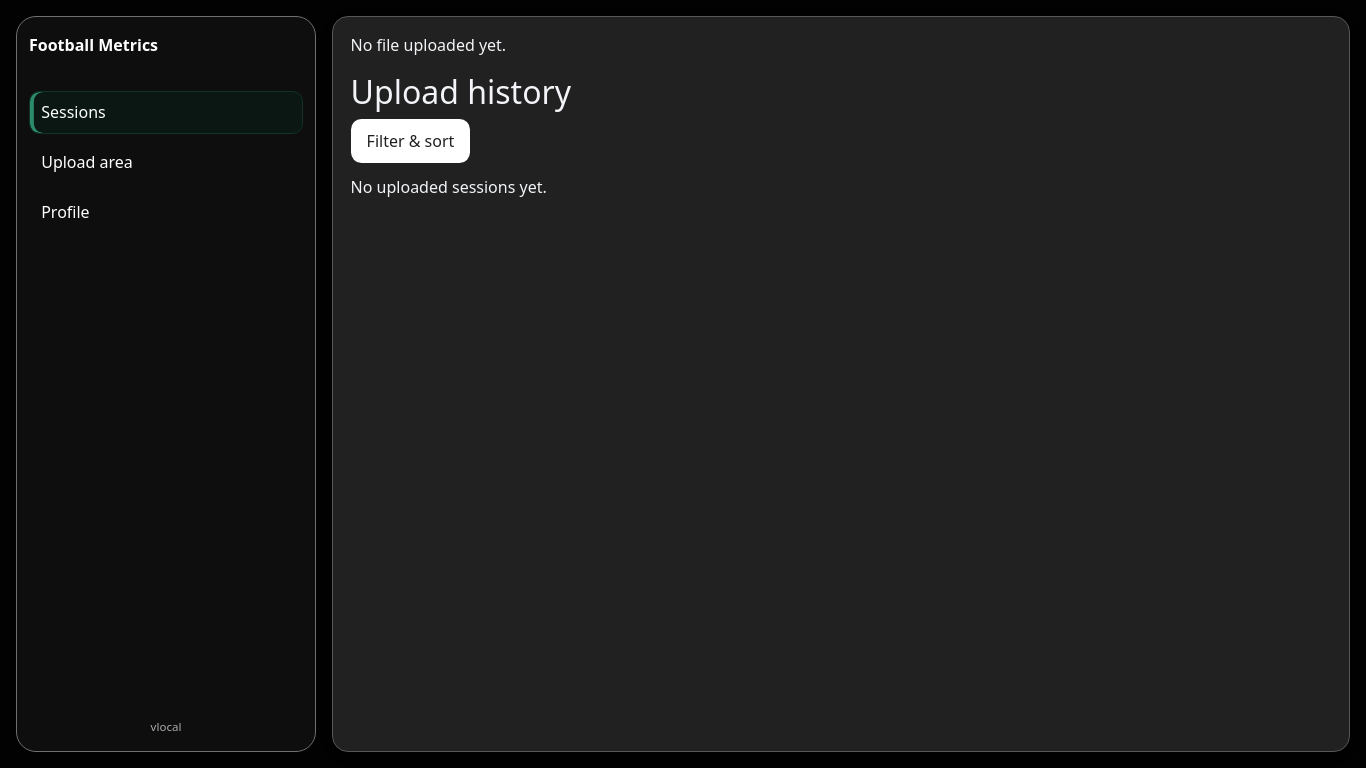
App › Mvp01_Ac01_renders english UI by default as browser language fallback
The width and height of the screenshot is (1366, 768).
Click the button "Upload area": (87, 162) [29,141,303,184]
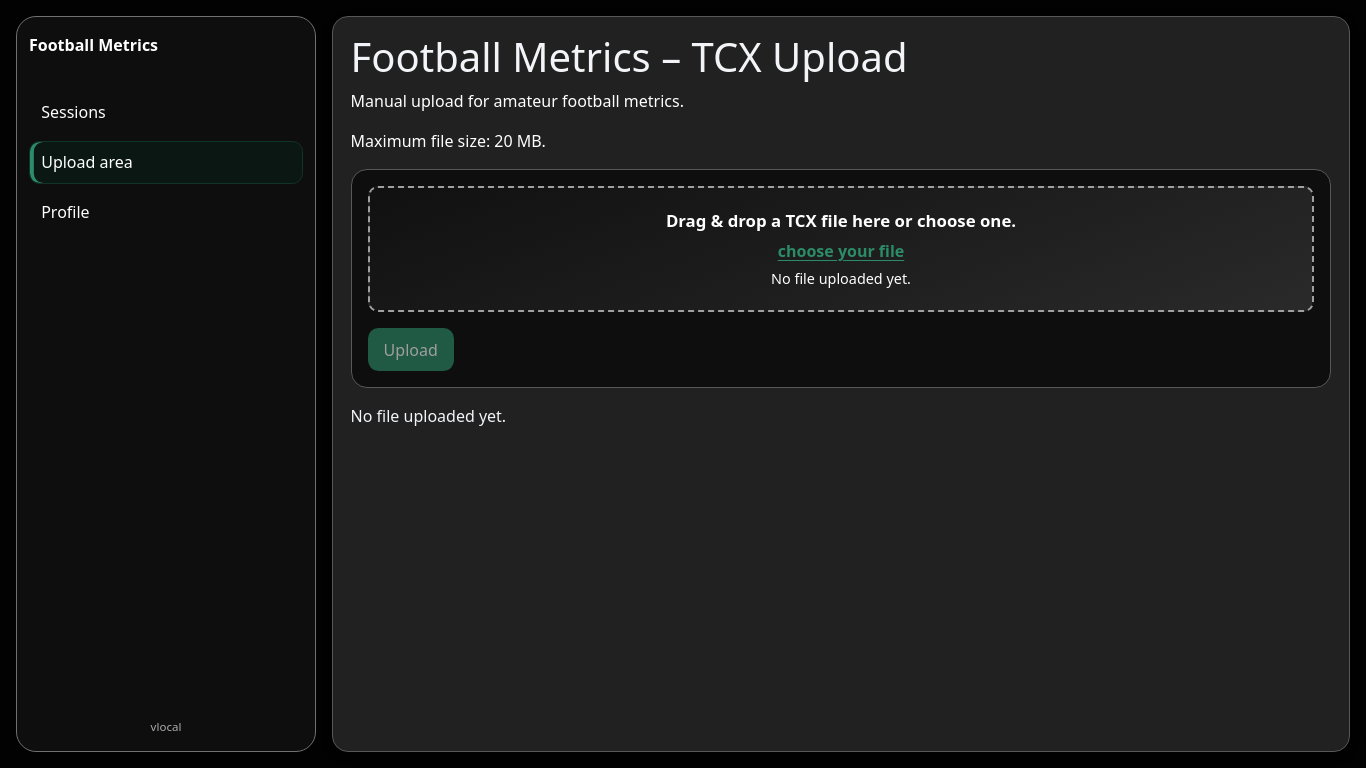
Result: the heading "Football Metrics – TCX Upload" is shown at [351,29,908,84]
Result: the text "Maximum file size: 20 MB." is shown at [351,130,546,152]
Result: the button "Upload" is disabled at [368,328,454,371]
